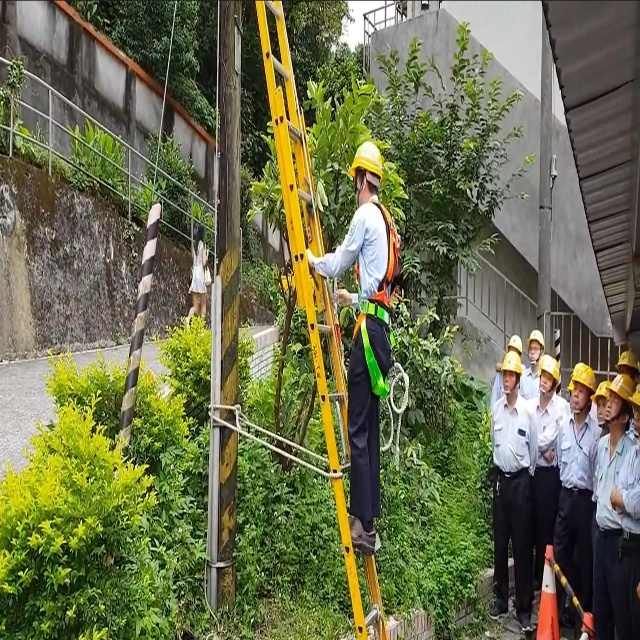Arnes_seguridad: (344, 198, 411, 414)
